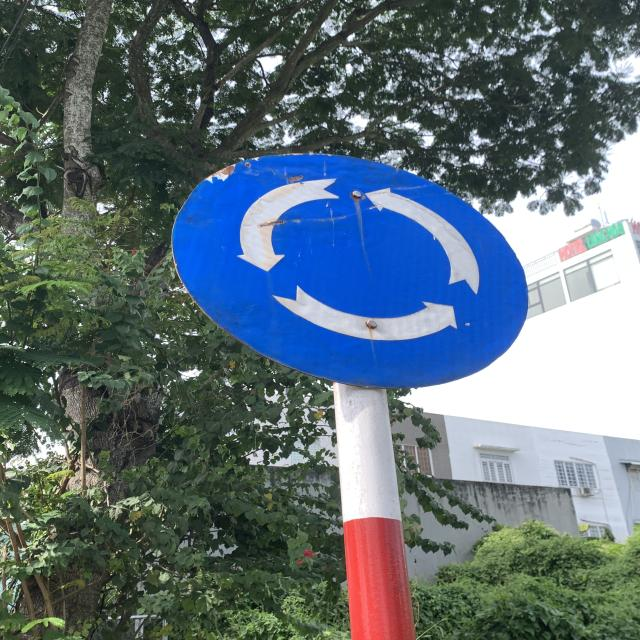Xe_Bus: (168, 151, 529, 390)
